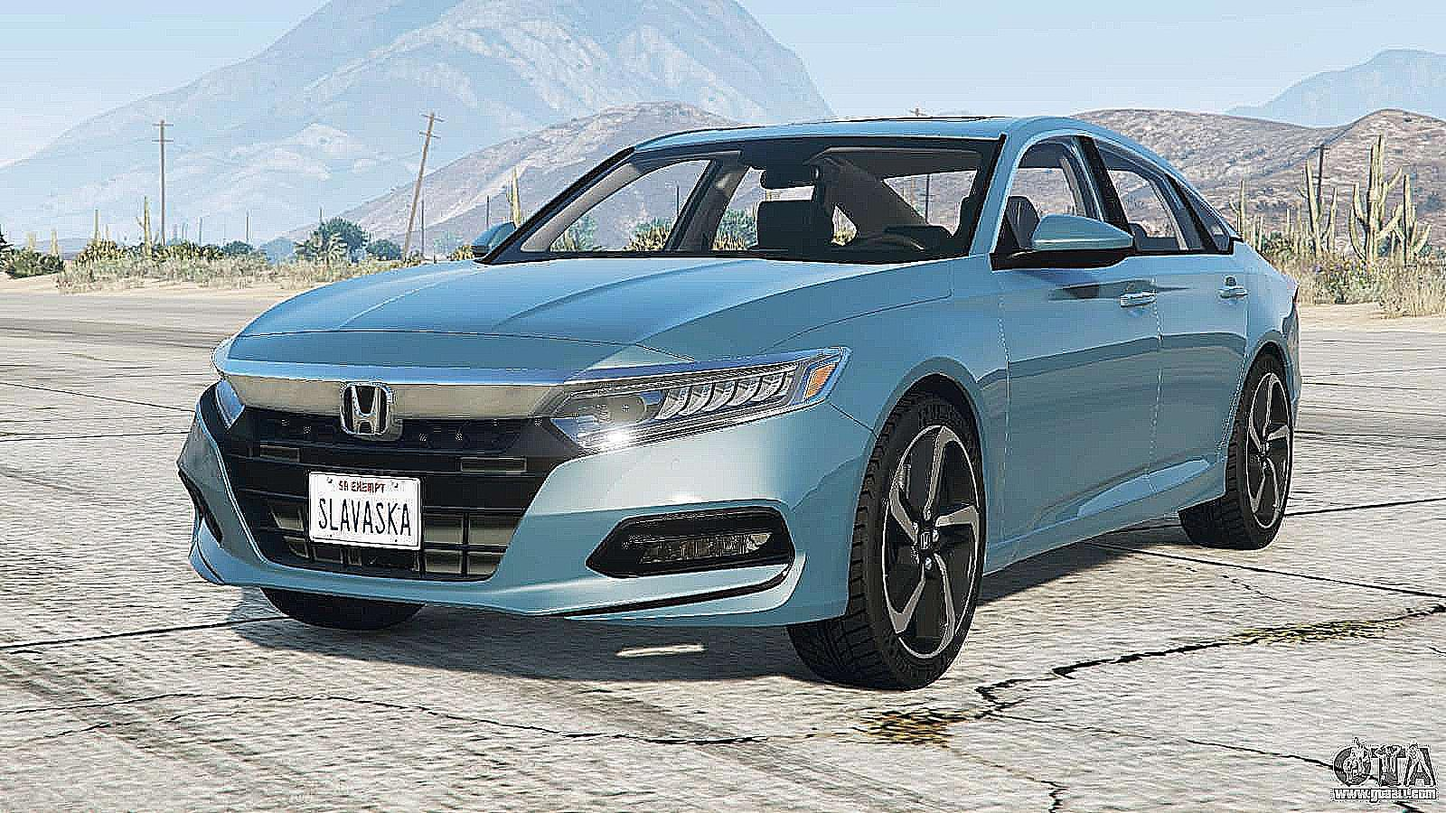Car hood: (206, 250, 959, 394)
Fender - -F-L-: (760, 236, 1011, 560)
Fender - -R-L-: (1217, 251, 1296, 499)
Front bumper: (148, 416, 873, 650)
Headlight - -L-: (541, 340, 867, 463)
Passenger-s door - -F-L-: (1005, 121, 1162, 541)
Passenger-s door - -R-L-: (1136, 144, 1255, 502)
Rear bumper: (1286, 359, 1323, 446)
Side bumper - -L-: (968, 450, 1238, 582)
Side mirror - -L-: (1021, 210, 1141, 285)
Side mirror - -R-: (465, 213, 527, 276)
